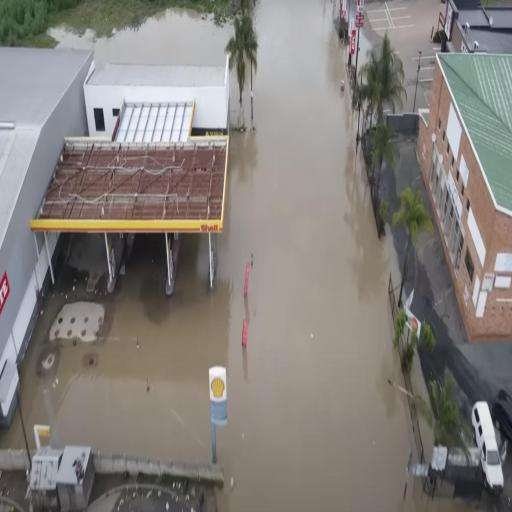flood: (19, 1, 478, 512), (57, 11, 230, 63), (410, 348, 432, 409), (0, 408, 26, 448), (356, 31, 374, 75), (241, 53, 251, 126), (229, 63, 239, 107)
house: (34, 54, 232, 314), (0, 41, 96, 433), (415, 50, 512, 344), (32, 441, 95, 508), (449, 3, 509, 55)
